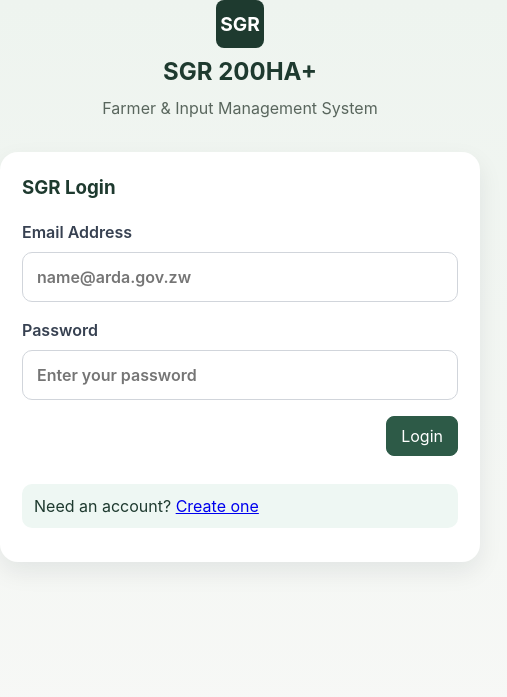
Scenario: LoginPage › does not describe a timeout as a wrong password
In the field with placeholder "name@arda.gov.zw": (240, 277) [22,252,458,302], type "officer@arda.gov.zw"
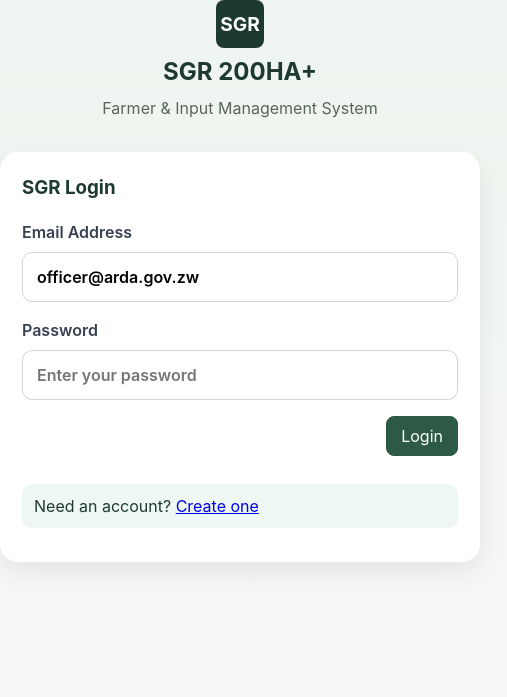
In the password field with placeholder "Enter your password": (240, 375) [22,350,458,400], type "correct-password"
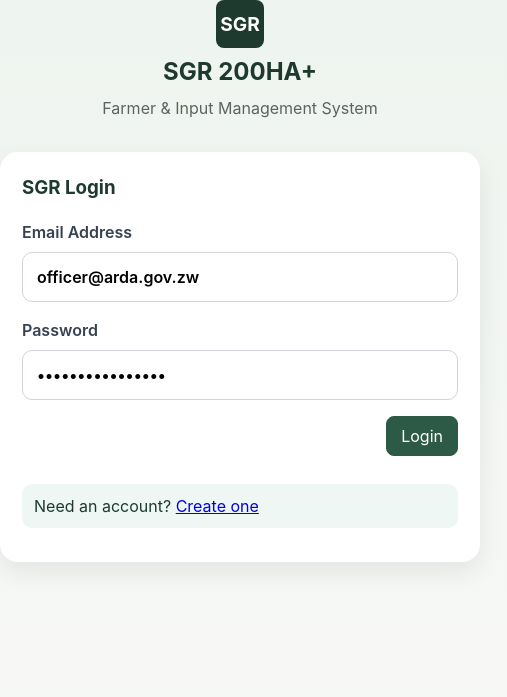
Click the button "Login": (422, 436) [386,416,458,456]
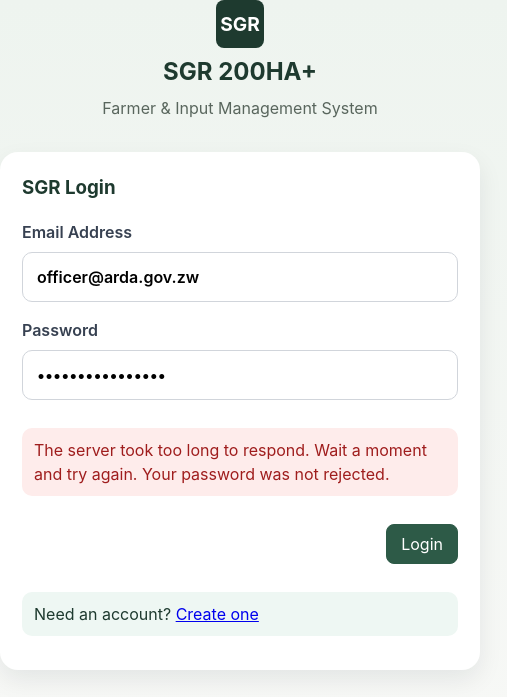
Expected: the text "took too long to respond" is shown, [34,440,427,484]
